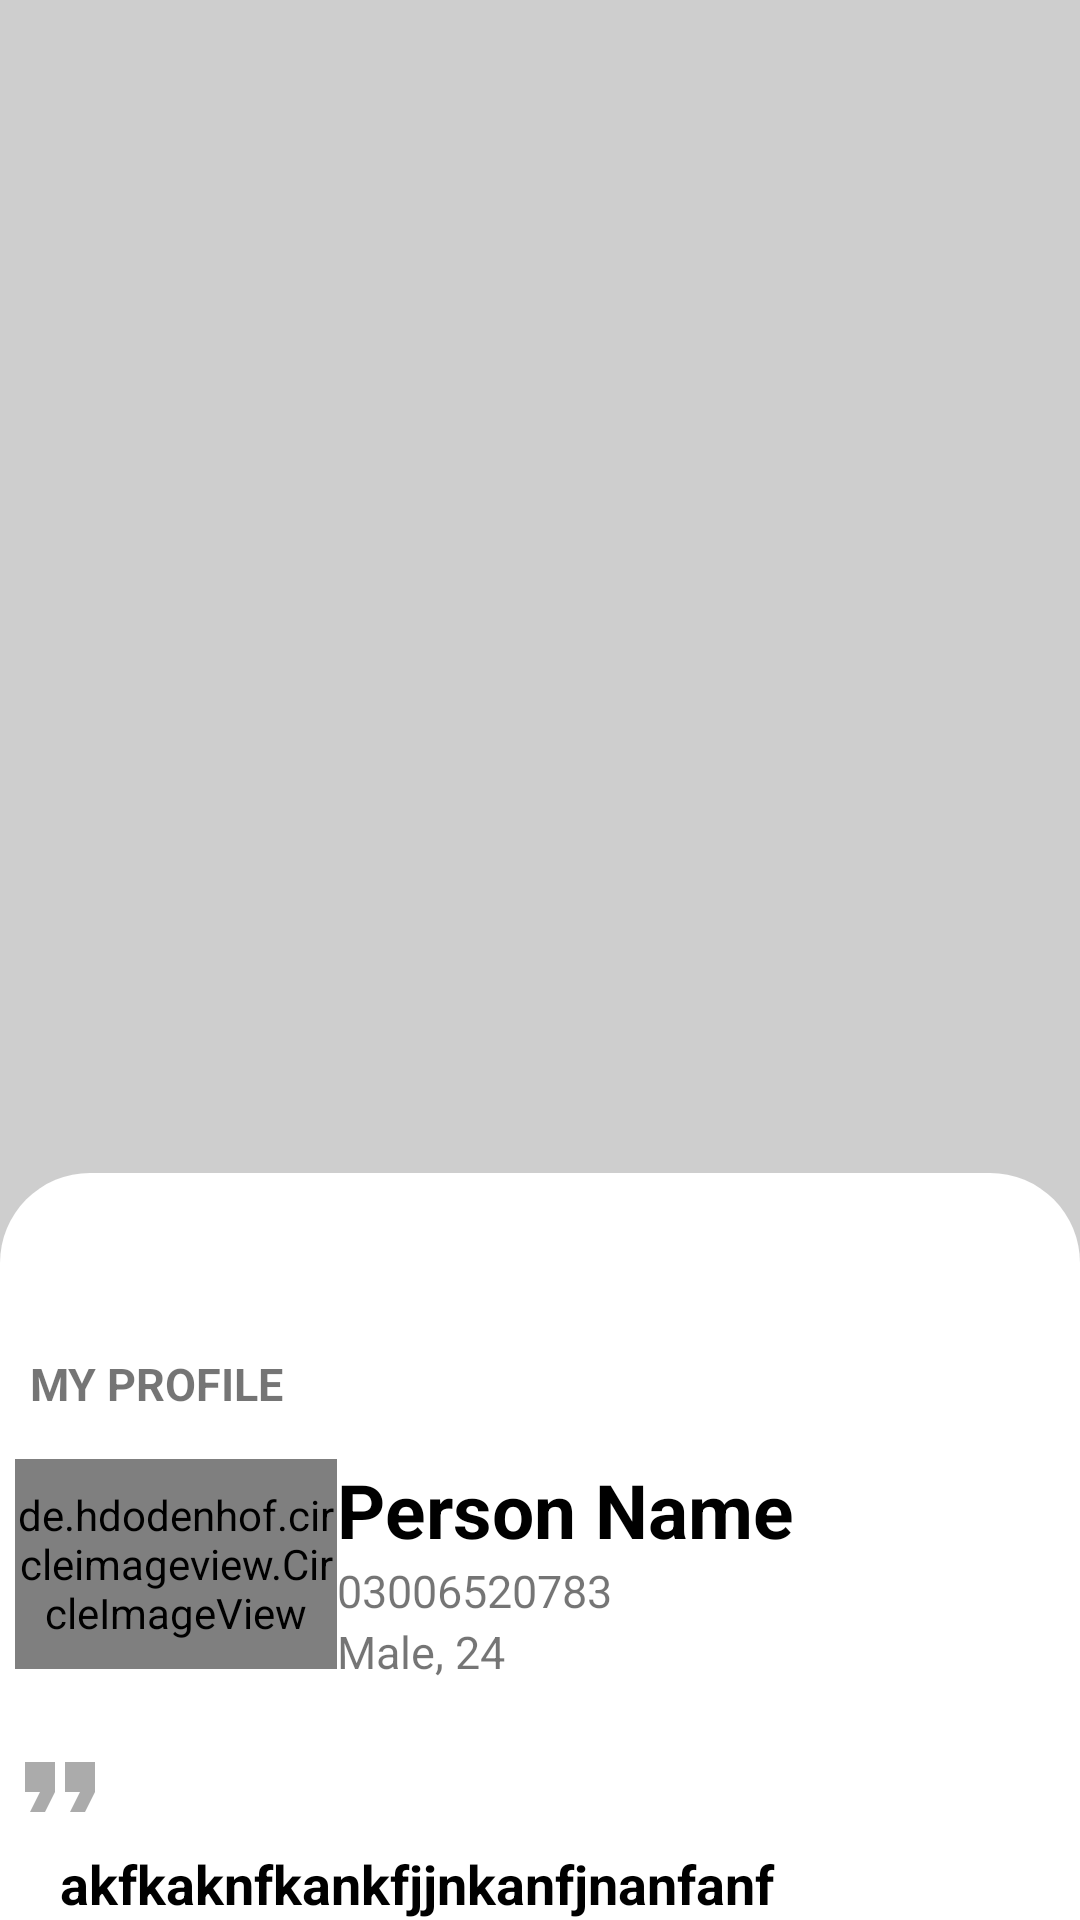

Icon bounding boxes for this 1080px x 1920px phone screenshot, format (x1, y1, x2, y2):
comma: (25, 1762, 95, 1812)
